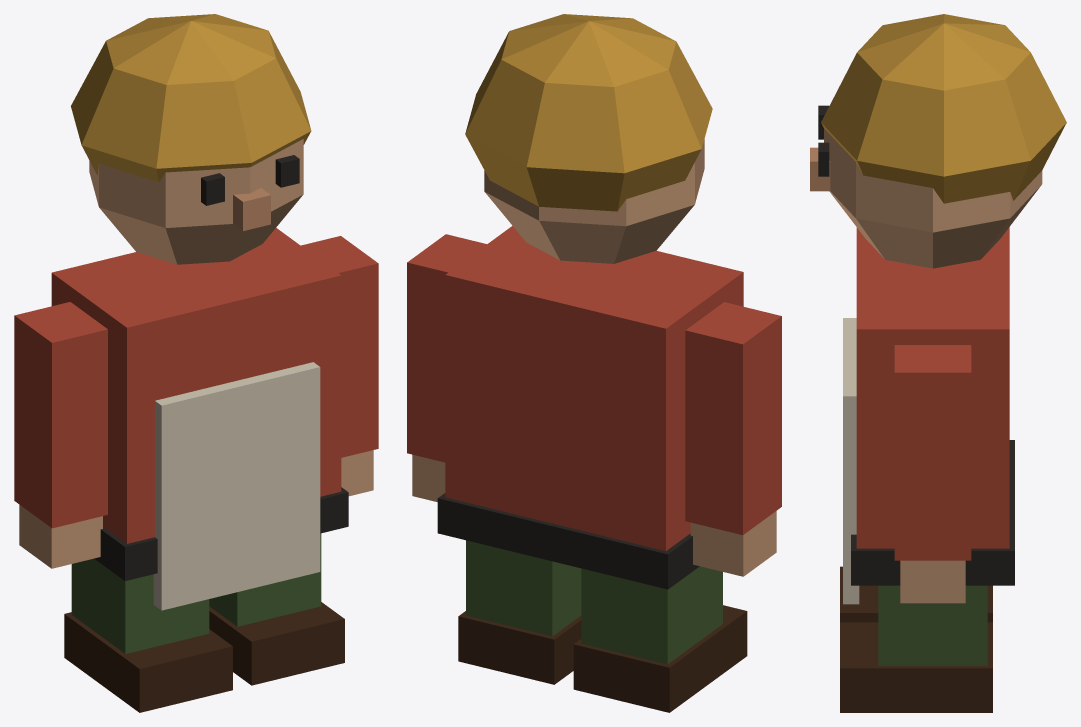
File: npc_villager.glb
The picture shows the model from 3 angles, left to right: view 1: azimuth 30°, elevation 25°; view 2: azimuth 150°, elevation 25°; view 3: azimuth 270°, elevation 25°; orthographic projection. The views are drawn at different scales.
Visible parts, largest first — view 1: body, head, arm_l, leg_l, leg_r, arm_r; view 2: body, head, arm_l, leg_l, leg_r, arm_r; view 3: head, body, arm_r, leg_r, leg_l.
Boxes of the visible parts, bbox=[...] form: body: bbox=[51, 228, 348, 610]; head: bbox=[71, 14, 311, 264]; arm_l: bbox=[14, 302, 107, 568]; leg_l: bbox=[64, 558, 232, 712]; leg_r: bbox=[209, 533, 344, 685]; arm_r: bbox=[301, 236, 378, 496]; body: bbox=[437, 226, 743, 589]; head: bbox=[465, 14, 712, 263]; arm_l: bbox=[685, 302, 781, 576]; leg_l: bbox=[573, 566, 747, 712]; leg_r: bbox=[458, 540, 581, 684]; arm_r: bbox=[407, 234, 486, 501]; head: bbox=[810, 14, 1066, 268]; body: bbox=[843, 227, 1014, 604]; arm_r: bbox=[894, 345, 971, 603]; leg_r: bbox=[840, 585, 992, 712]; leg_l: bbox=[840, 566, 992, 622].
Size of the model in its own units: 0.7 by 1.29 by 0.47.
